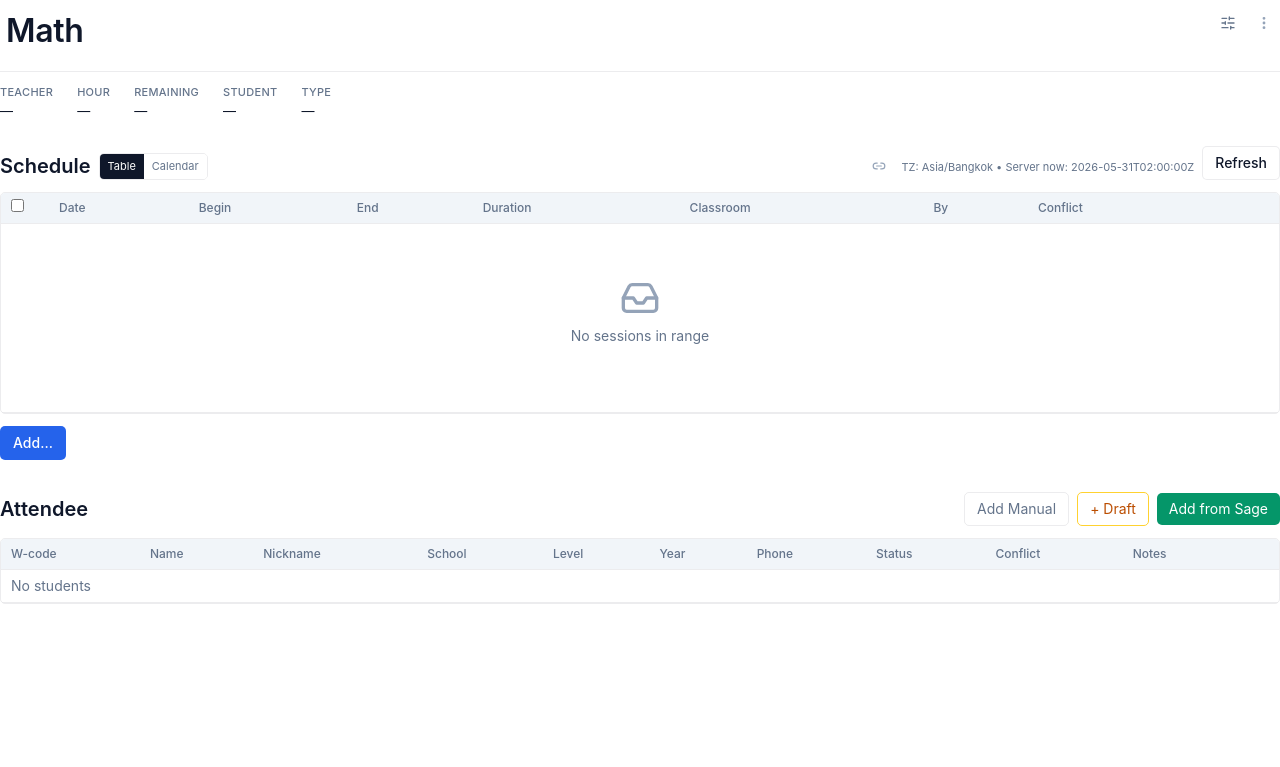
CourseDetail create flows › dismisses the create popover with Escape without creating anything
Click the button "Add…" at (33, 442), box [0,426,66,460]
(page scrolled)
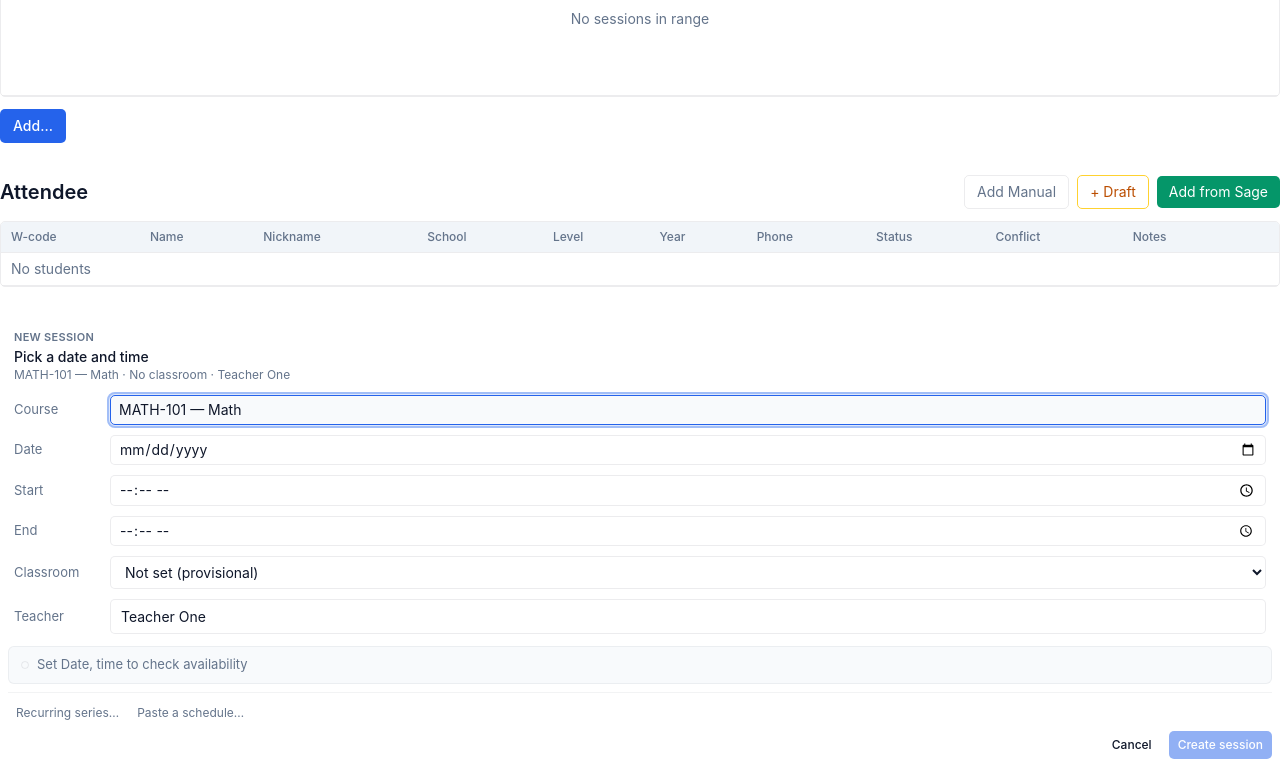
Type "2026-05-31" into the date field labelled "Date" at (688, 450), box [110,435,1266,465]
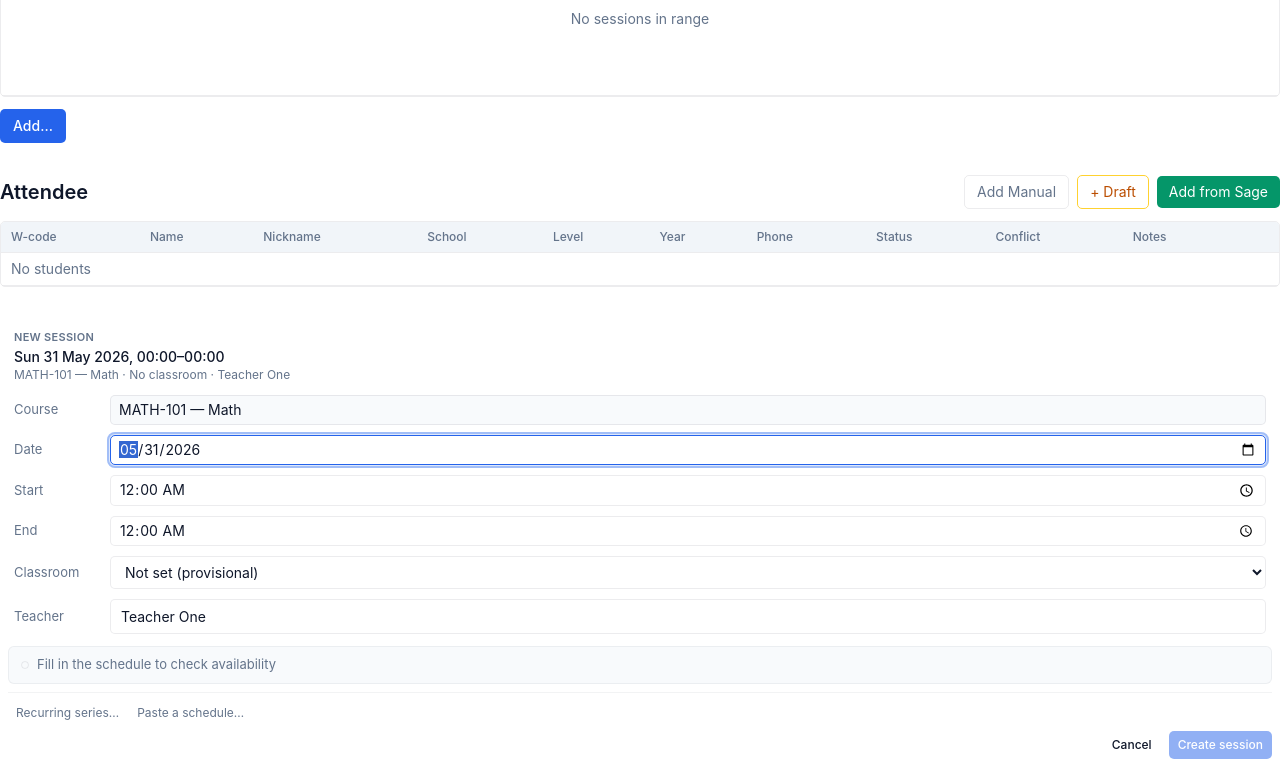
Press Escape
(page scrolled)
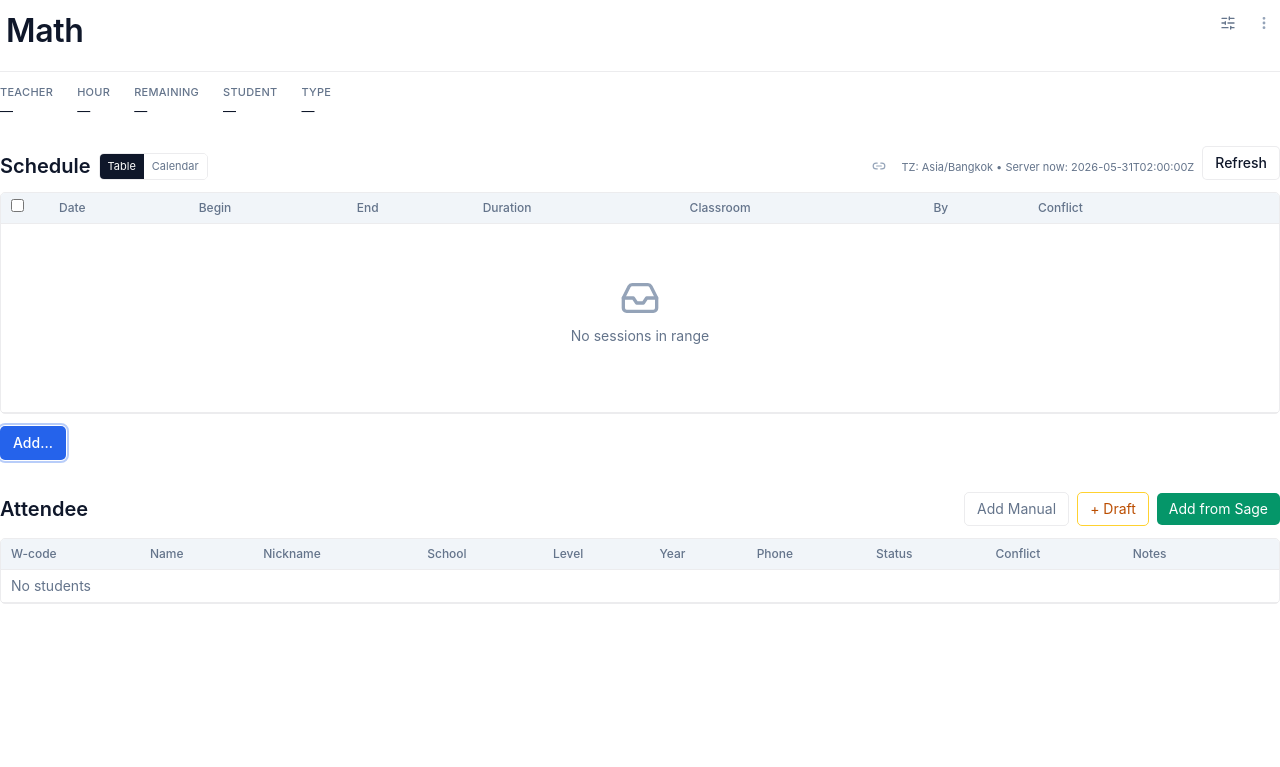
expect the text "New session" is gone: met
